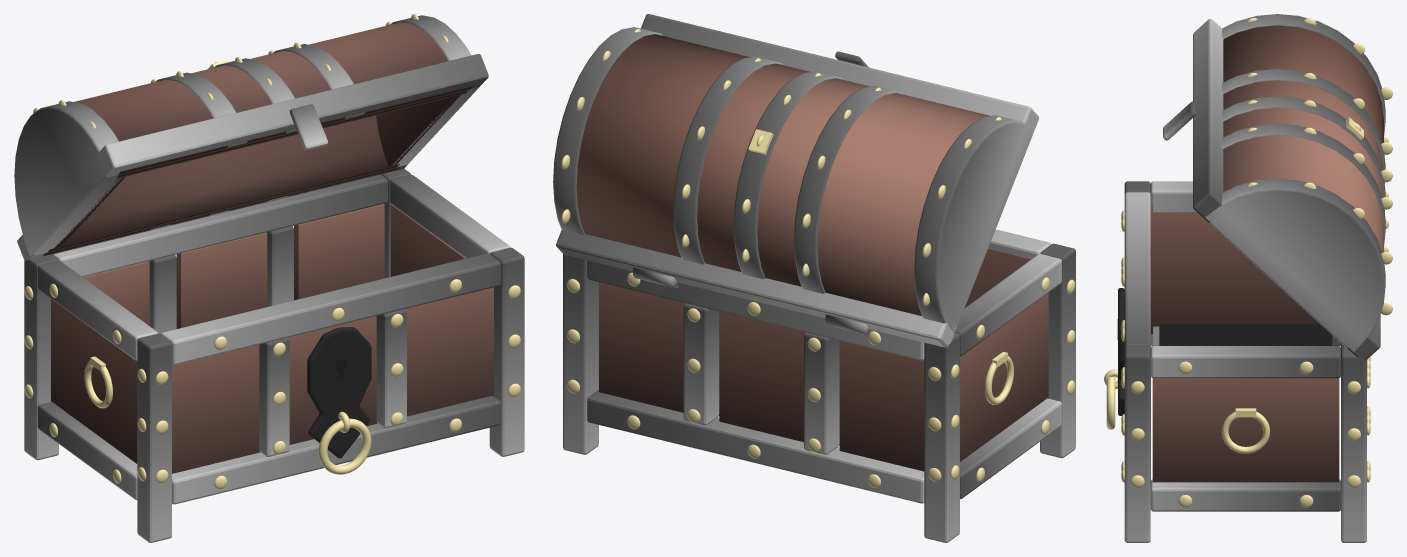
File: bottle.glb
3 views of the same model, side by side, from view 1: azimuth 30°, elevation 25°; view 2: azimuth 150°, elevation 25°; view 3: azimuth 270°, elevation 25° (orthographic). The views are drawn at different scales.
Visible parts, largest first — view 1: Pillar_-1_-1; view 2: Pillar_-1_-1; view 3: Pillar_-1_-1.
Part boxes in pixels (left/top/right/bottom): Pillar_-1_-1: left=14, top=14, right=524, bottom=542; Pillar_-1_-1: left=553, top=14, right=1075, bottom=542; Pillar_-1_-1: left=1104, top=14, right=1392, bottom=542.
Size of the model in its own units: 2.44 by 2.27 by 1.67.
1 material, 1 textured.
